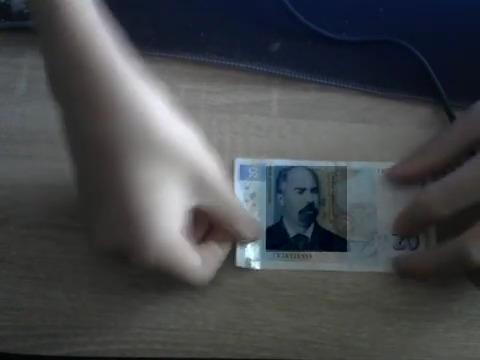20leva: (266, 166, 347, 252)
